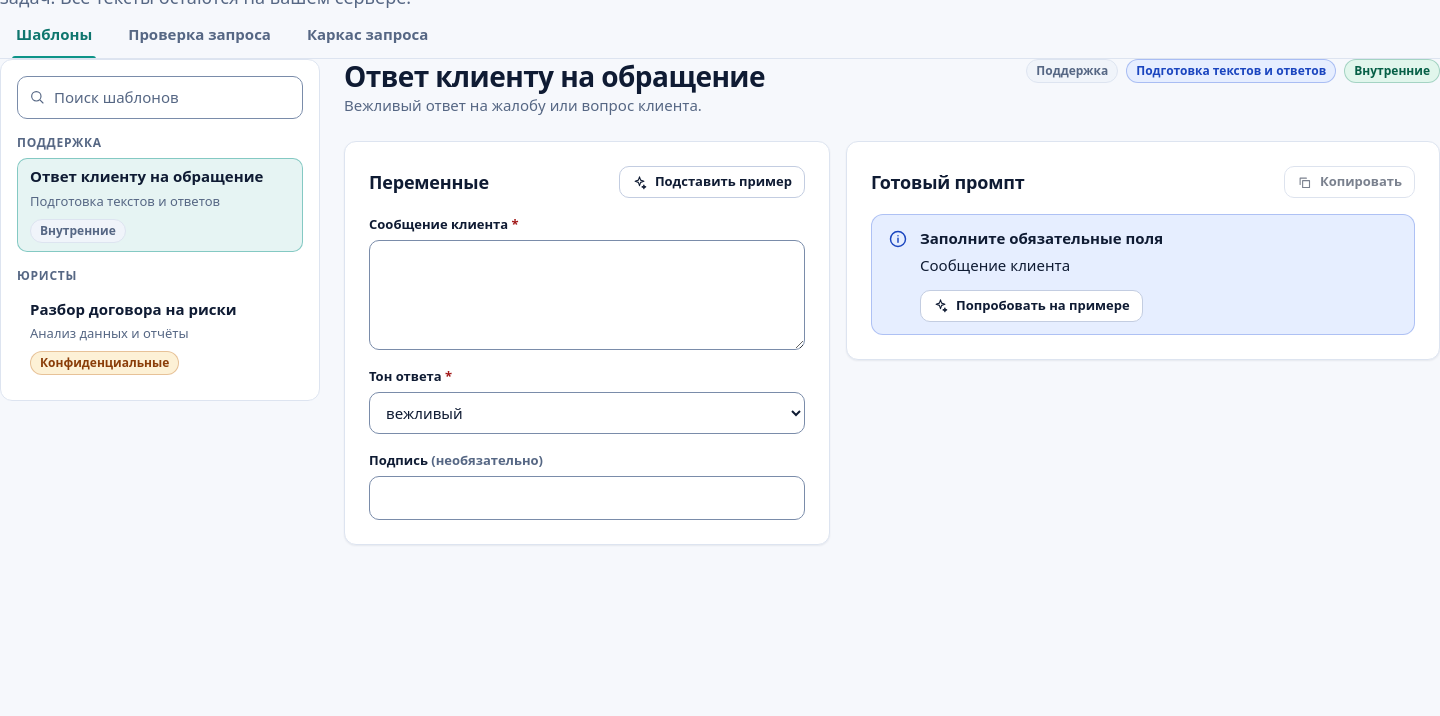
PromptsPage: проверка и каркас › линтер: оценка, оценка-буква, критерии с подсказками, ограничение из-за персональных данных
The width and height of the screenshot is (1440, 716).
Click the tab "Проверка запроса" at {"x": 200, "y": 34}, box [112, 10, 287, 58]
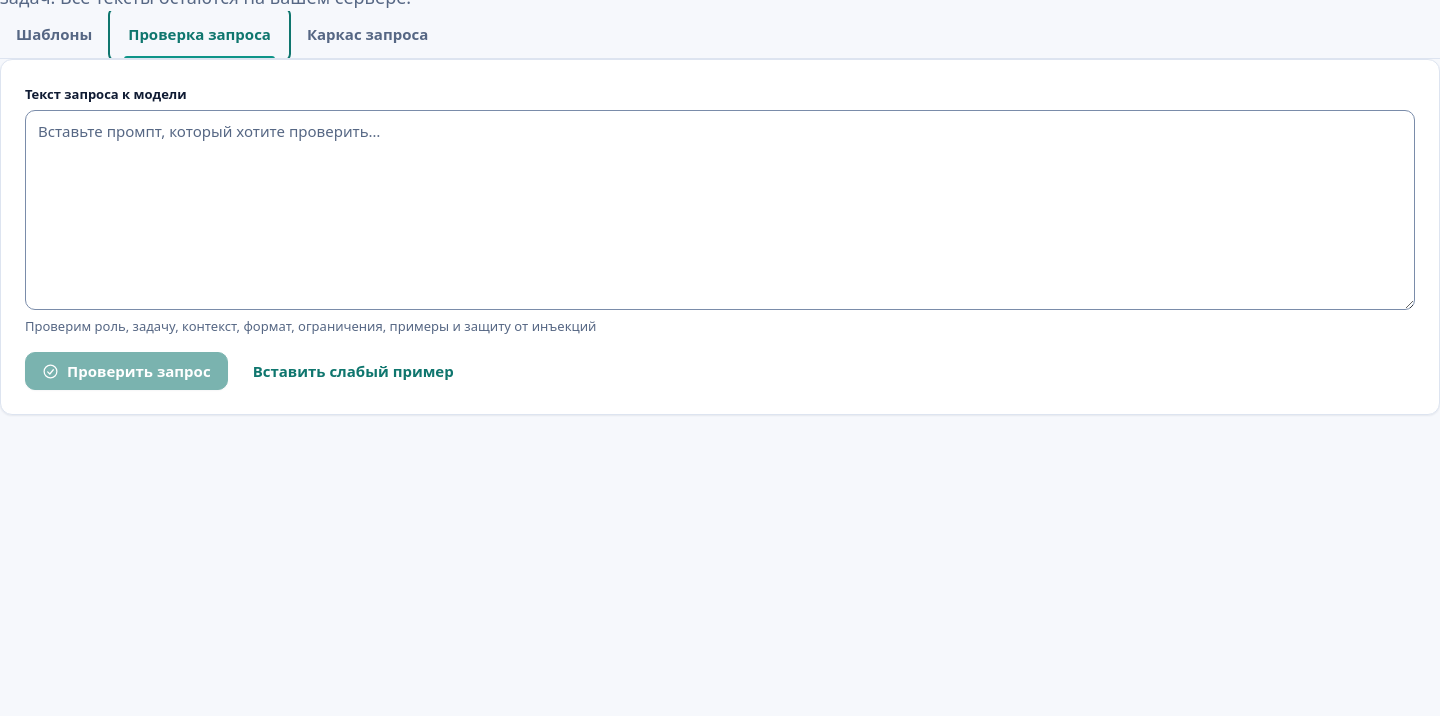
Type "Напиши письмо. Звонить 89123456789" into the text box labelled "Текст запроса к модели" at {"x": 720, "y": 210}, box [25, 110, 1415, 310]
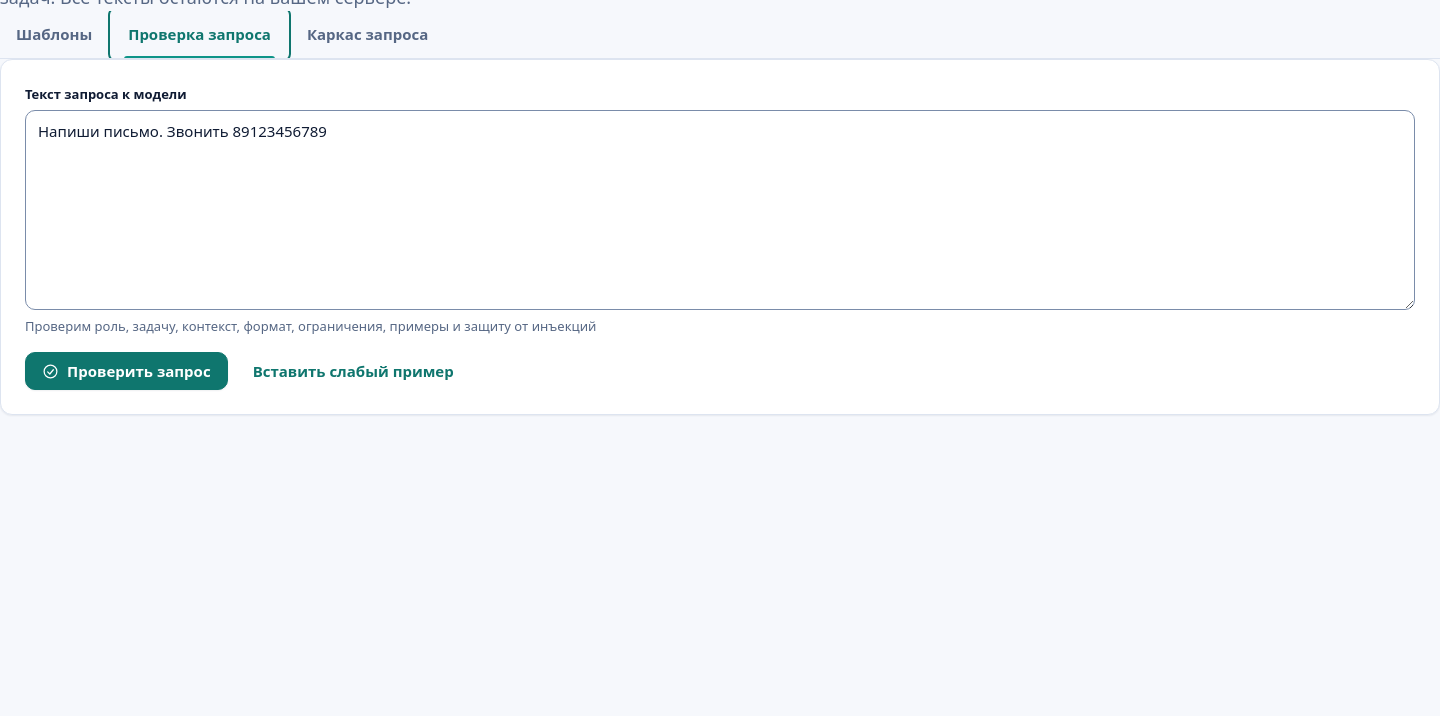
Click the button "Проверить запрос" at {"x": 126, "y": 371}, box [25, 352, 228, 390]
(page scrolled)
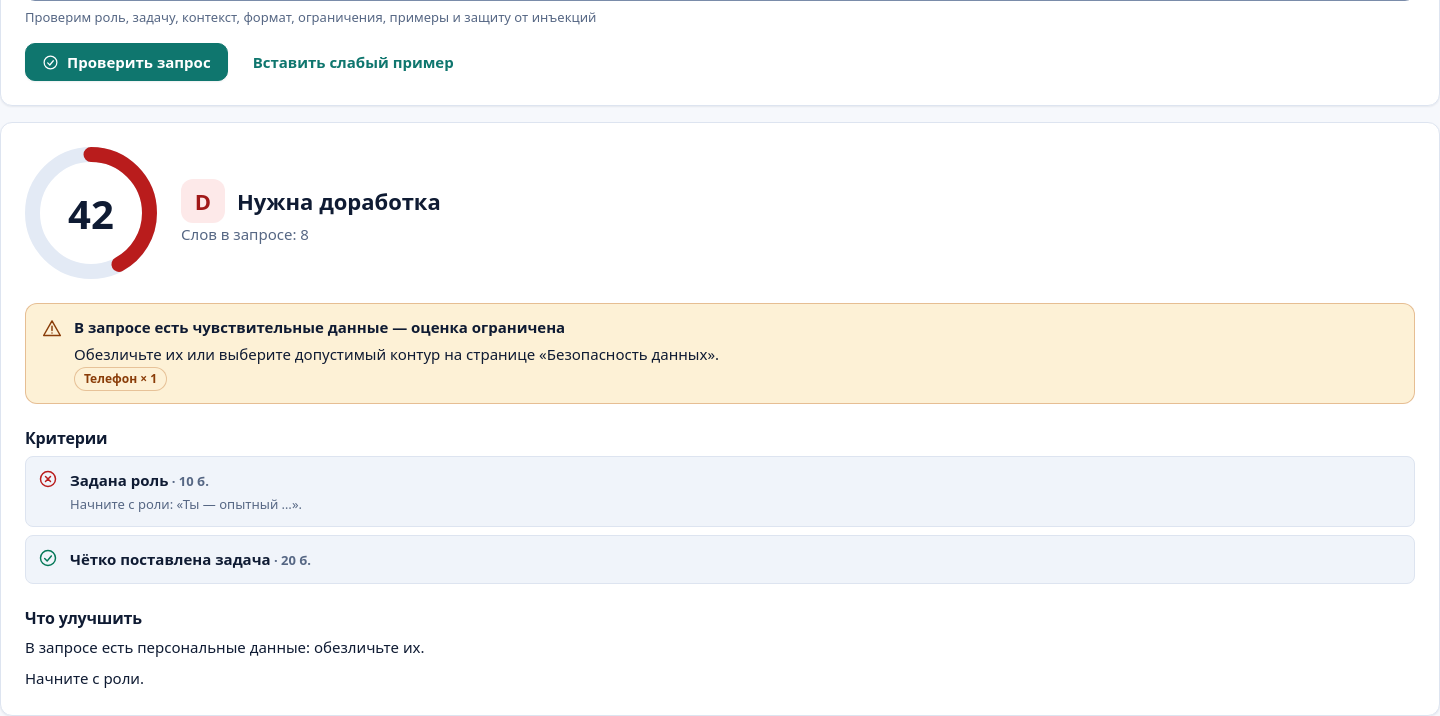
Result: the picture named "Оценка запроса: 42 из 100" is shown at [25, 147, 157, 279]
Result: the text "Нужна доработка" is shown at [237, 186, 441, 216]
Result: the text "Начните с роли: «Ты — опытный …»." is shown at [70, 494, 302, 514]
